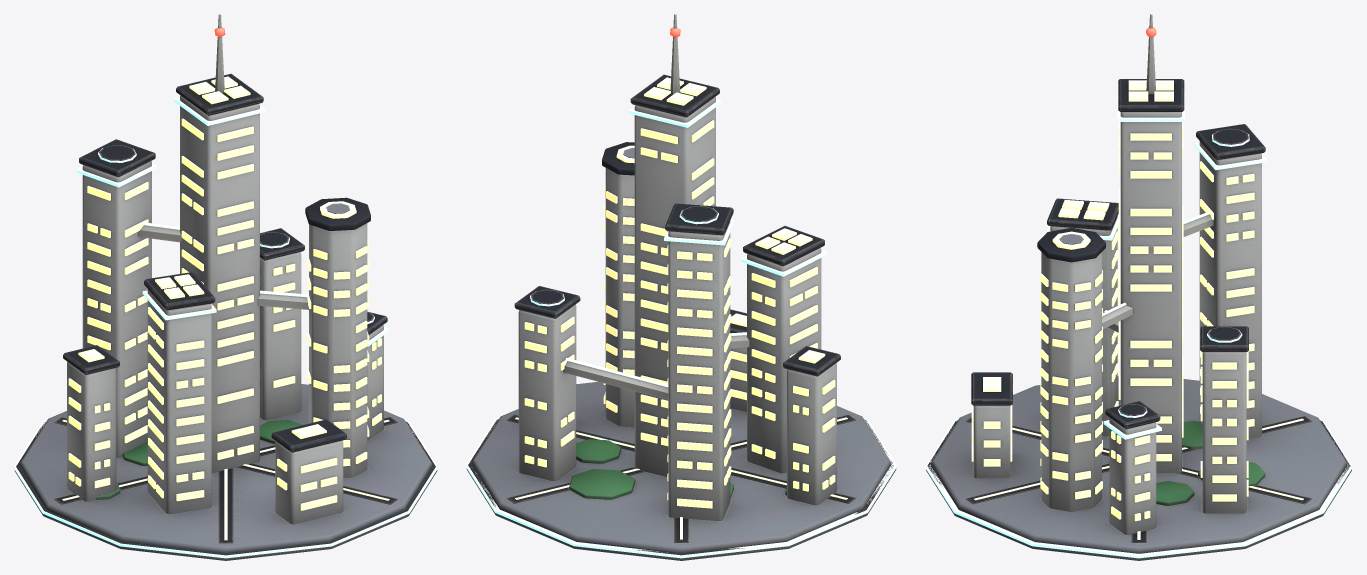
The model's file is city_c.glb.
3 views of the same model, side by side, from view 1: azimuth 30°, elevation 25°; view 2: azimuth 150°, elevation 25°; view 3: azimuth 270°, elevation 25° (orthographic).
Visible parts, largest first — view 1: city_c, city_c_glow; view 2: city_c, city_c_glow; view 3: city_c, city_c_glow.
Boxes of the visible parts, bbox=[...] form: city_c: bbox=[14, 14, 437, 560]; city_c_glow: bbox=[14, 27, 437, 558]; city_c: bbox=[466, 14, 896, 560]; city_c_glow: bbox=[466, 28, 896, 558]; city_c: bbox=[926, 14, 1351, 560]; city_c_glow: bbox=[925, 27, 1352, 558].
Size of the model in its own units: 3.49 by 4.14 by 3.49.
4 materials, 1 textured.
